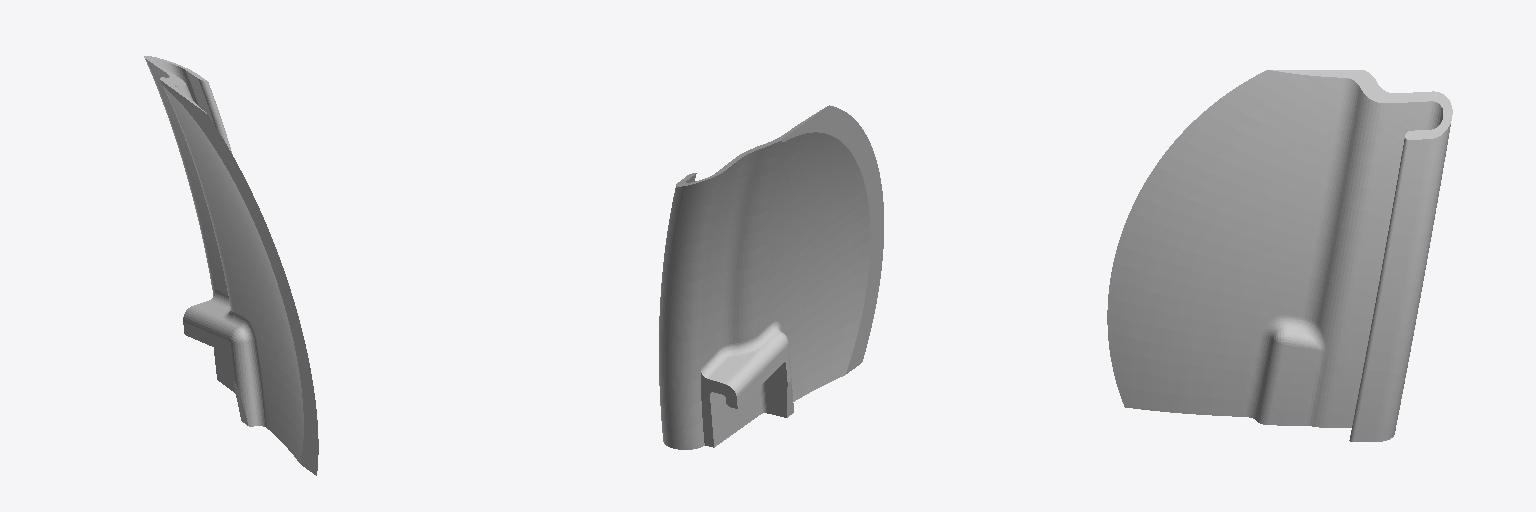
File: Body11.obj
3 renders of one model, left to right at view 1: azimuth 30°, elevation 25°; view 2: azimuth 150°, elevation 25°; view 3: azimuth 270°, elevation 25°, orthographic.
Parts seen in each view (by area): view 1: Body11; view 2: Body11; view 3: Body11.
Part boxes in pixels (x1,y1,x2,y2): Body11: (144, 56, 318, 475); Body11: (659, 105, 883, 449); Body11: (1107, 70, 1452, 441).
Size of the model in its own units: 0.2831 by 0.7883 by 0.7727.